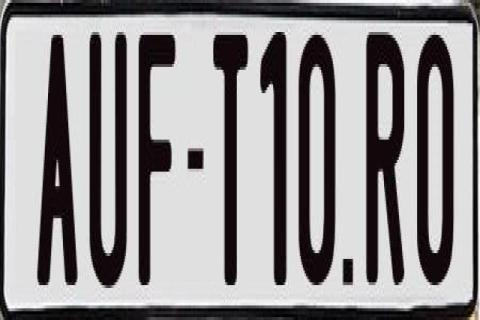0: (298, 26, 340, 282), (417, 32, 454, 288), (259, 24, 292, 288)
A: (34, 27, 76, 280)
F: (138, 32, 178, 296)
R: (364, 29, 404, 297)
T: (214, 26, 252, 294)
U: (90, 26, 129, 291)
